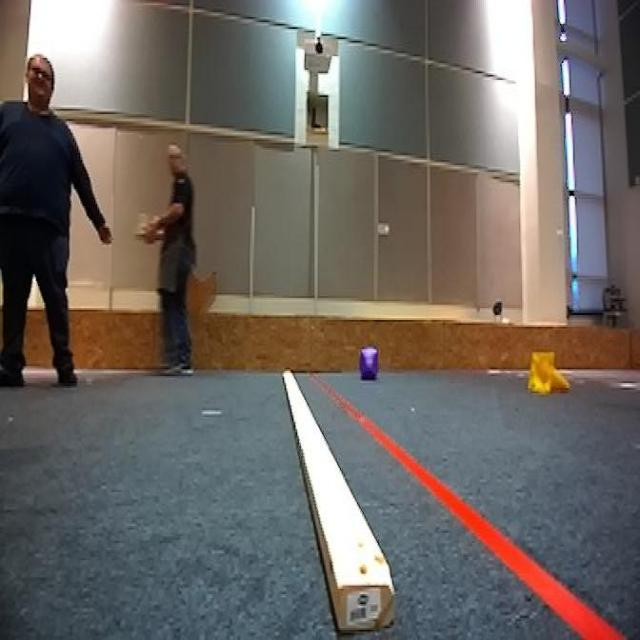frc_cone: (523, 352, 568, 398)
frc_cube: (358, 351, 382, 386)
